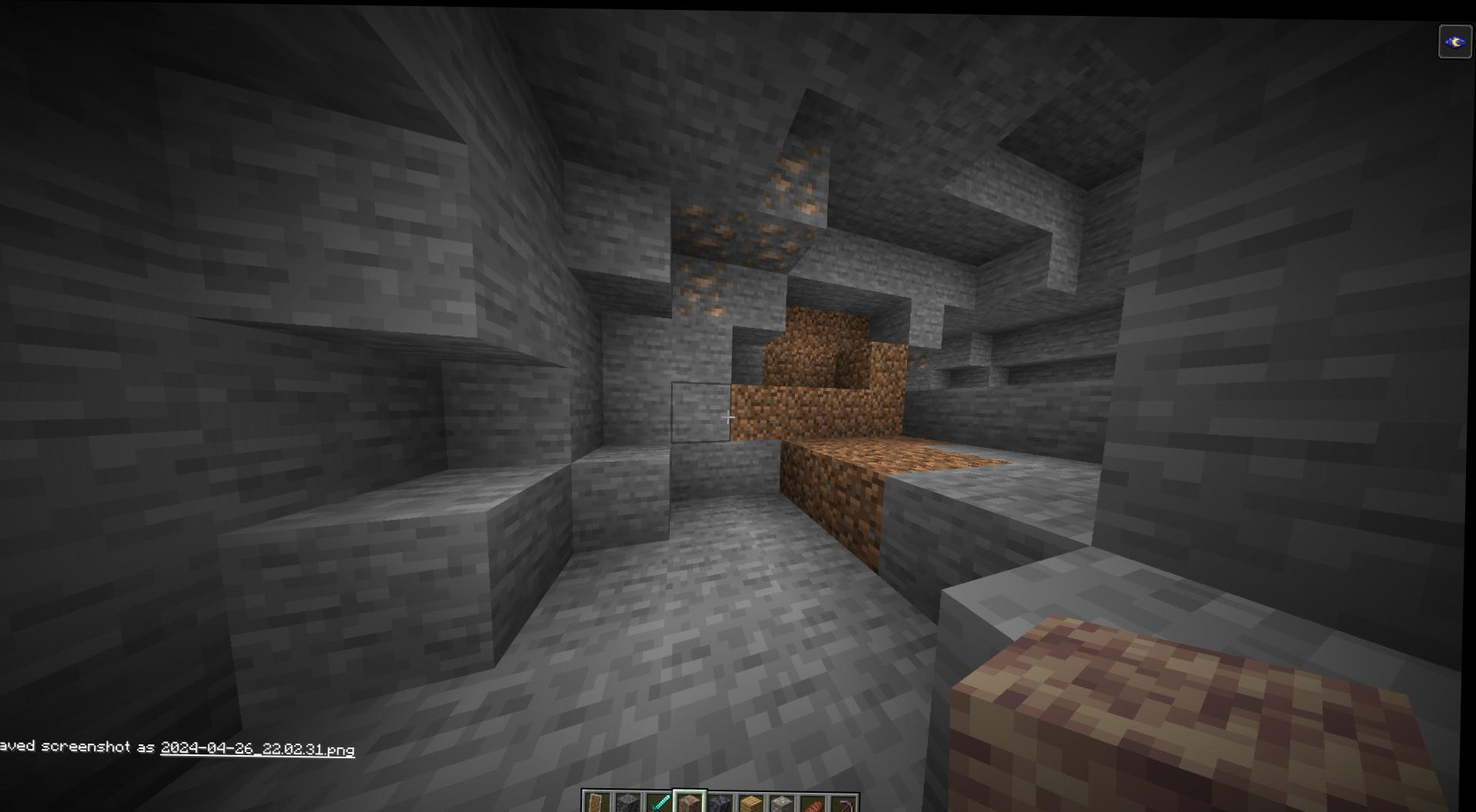iron ore: (752, 120, 832, 225), (736, 204, 806, 270), (672, 199, 742, 263), (673, 254, 740, 318)
